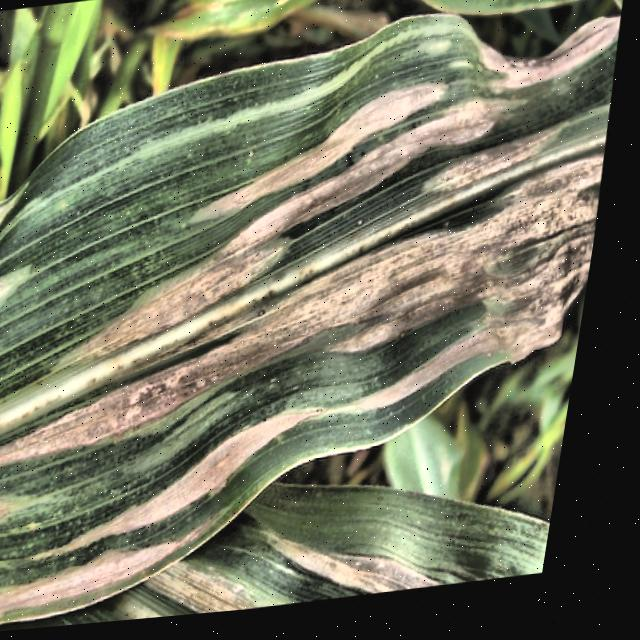blight: (0, 0, 632, 531)
